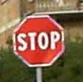stop: (11, 14, 64, 66)
